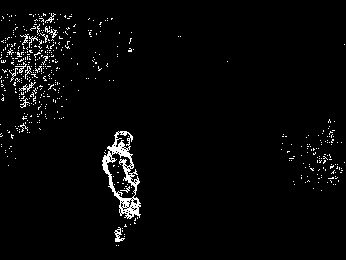person: (100, 129, 142, 248)
